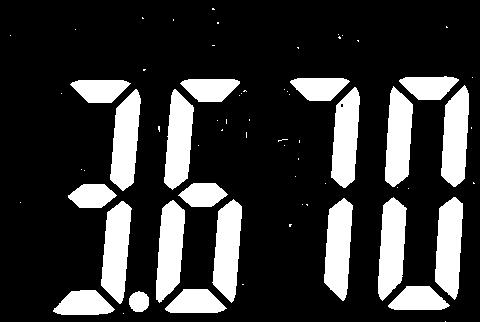0: (376, 73, 472, 313)
3: (50, 75, 144, 320)
6: (155, 76, 248, 313)
7: (286, 74, 363, 303)
dot: (130, 288, 153, 314)
